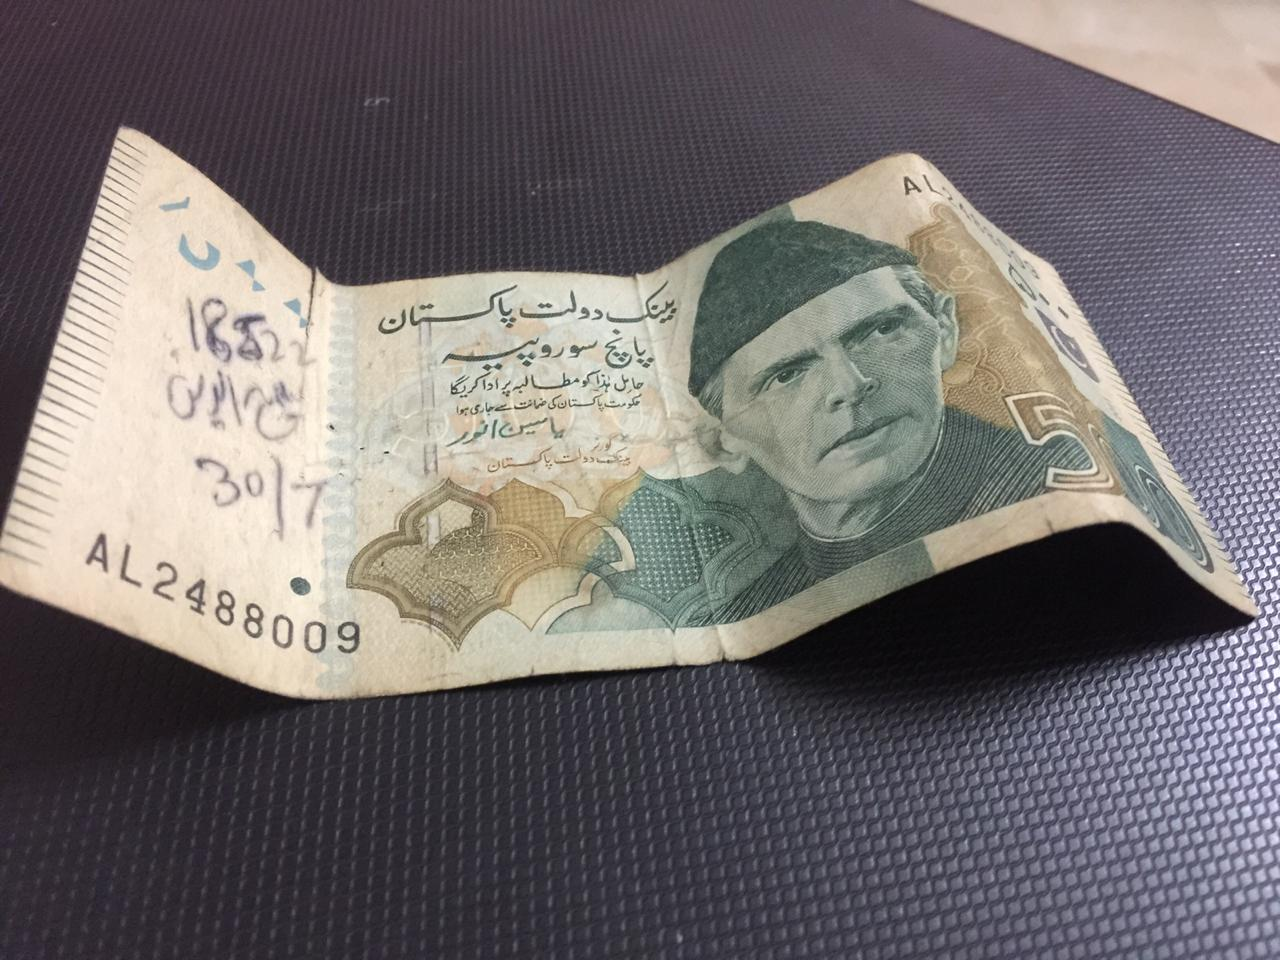500 rupee: (17, 118, 1259, 705)
